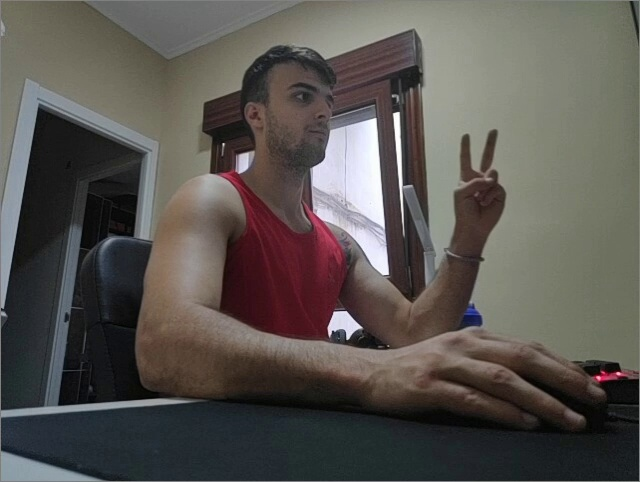Peace: (451, 127, 507, 225)
